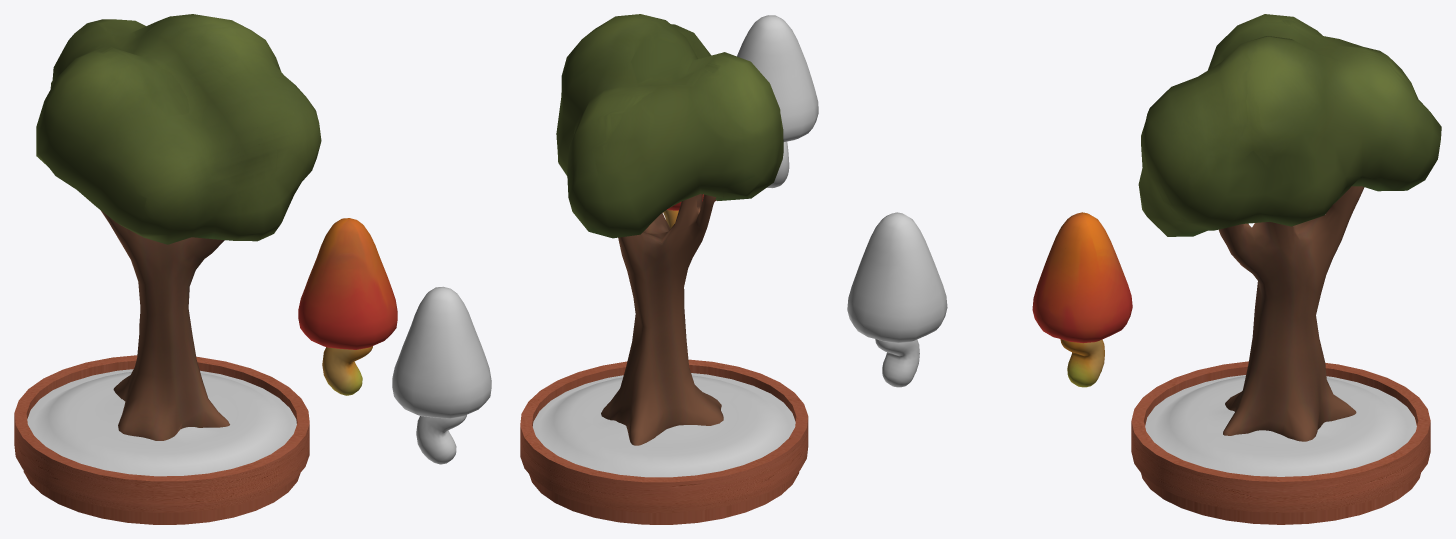
Rendered from CashewTree.ver002.fbx.
The picture shows the model from 3 angles, left to right: view 1: azimuth 30°, elevation 25°; view 2: azimuth 150°, elevation 25°; view 3: azimuth 270°, elevation 25°; orthographic projection. The views are drawn at different scales.
Visible parts, largest first — view 1: Treetop, Base, Dirt, Treetrunk, Cashewtop, Cashewtop.2, Cashewbottom.2, Cashewbottom; view 2: Treetop, Base, Dirt, Treetrunk, Cashewtop.2, Cashewbottom.2; view 3: Treetop, Treetrunk, Base, Dirt, Cashewtop, Cashewtop.2, Cashewbottom.2, Cashewbottom.
Boxes of the visible parts, x1,y1,x2,y2 form: Treetop: [36, 14, 321, 244]; Base: [14, 355, 309, 524]; Dirt: [27, 369, 296, 476]; Treetrunk: [100, 210, 229, 440]; Cashewtop: [298, 218, 397, 349]; Cashewtop.2: [392, 286, 491, 418]; Cashewbottom.2: [416, 415, 466, 464]; Cashewbottom: [322, 346, 372, 395]; Treetop: [556, 14, 783, 238]; Base: [520, 359, 808, 524]; Dirt: [532, 373, 795, 477]; Treetrunk: [601, 194, 723, 445]; Cashewtop.2: [737, 15, 818, 141]; Cashewbottom.2: [766, 141, 789, 188]; Treetop: [1138, 14, 1441, 236]; Treetrunk: [1219, 186, 1364, 441]; Base: [1131, 361, 1430, 524]; Dirt: [1145, 375, 1416, 476]; Cashewtop: [1032, 212, 1132, 343]; Cashewtop.2: [847, 212, 947, 343]; Cashewbottom.2: [875, 339, 919, 387]; Cashewbottom: [1060, 339, 1104, 387].
Bounding box in the file's own units: 4258 × 7058 × 8673.
